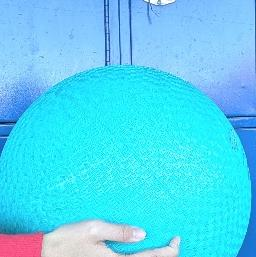algae: (0, 65, 252, 257)
